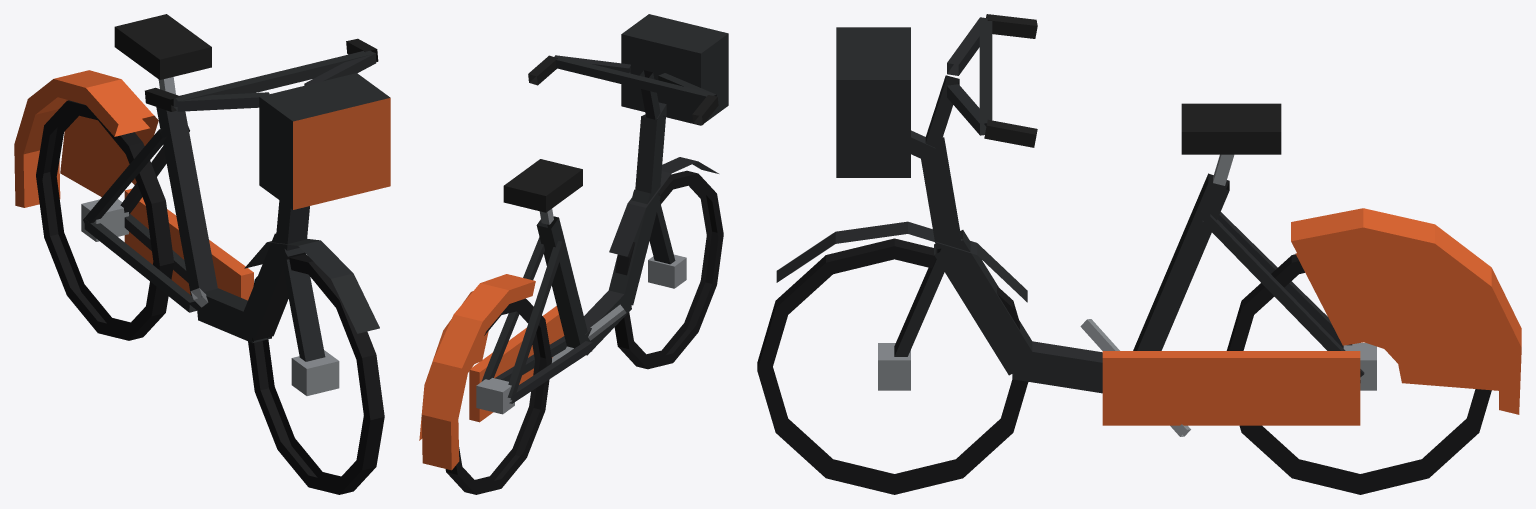
The model's file is bike-share-bike.glb.
The picture shows the model from 3 angles, left to right: view 1: azimuth 30°, elevation 25°; view 2: azimuth 150°, elevation 25°; view 3: azimuth 270°, elevation 25°; orthographic projection. The views are drawn at different scales.
Visible parts, largest first — view 1: bike-share-bike; view 2: bike-share-bike; view 3: bike-share-bike.
Part boxes in pixels (box(x1,y1,x2,y2)): bike-share-bike: box(14, 14, 390, 494); bike-share-bike: box(419, 14, 728, 494); bike-share-bike: box(757, 14, 1521, 494).
Size of the model in its own units: 0.6549 by 1.16 by 1.84.
1 material, 1 textured.
